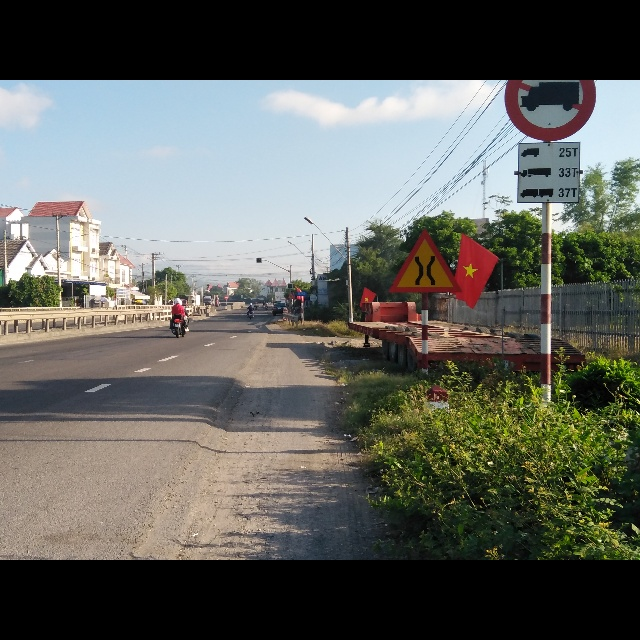Cầu hẹp: (390, 231, 460, 295)
